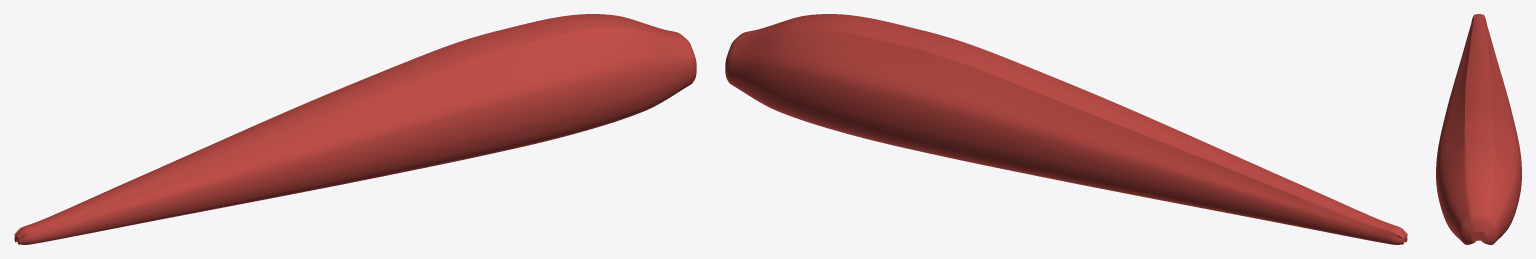
The model's file is chopper_3.glb.
3 views of the same model, side by side, from view 1: azimuth 30°, elevation 25°; view 2: azimuth 150°, elevation 25°; view 3: azimuth 270°, elevation 25° (orthographic). The views are drawn at different scales.
Visible parts, largest first — view 1: chopper_3; view 2: chopper_3; view 3: chopper_3.
Boxes of the visible parts, x1=… form: chopper_3: x1=14, y1=14, x2=696, y2=244; chopper_3: x1=725, y1=14, x2=1407, y2=244; chopper_3: x1=1436, y1=14, x2=1521, y2=244.
Size of the model in its own units: 1.06 by 0.1416 by 0.1678.
